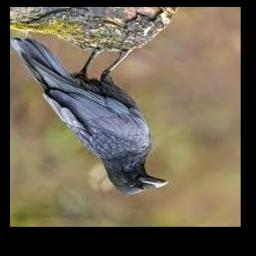Crow: (10, 37, 169, 196)
